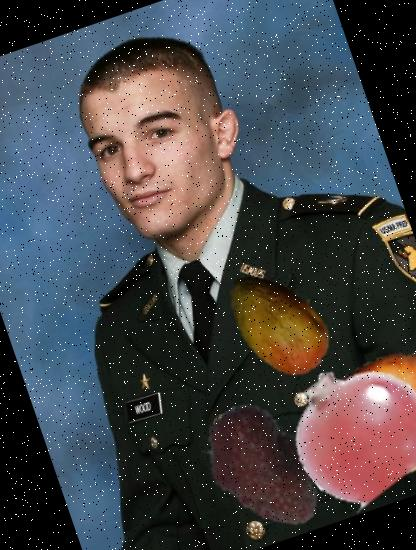Papaya: (204, 247, 354, 396)
Peach: (303, 329, 416, 497)
Redcurrant: (273, 342, 416, 515)
Strawberry: (178, 380, 352, 550)
